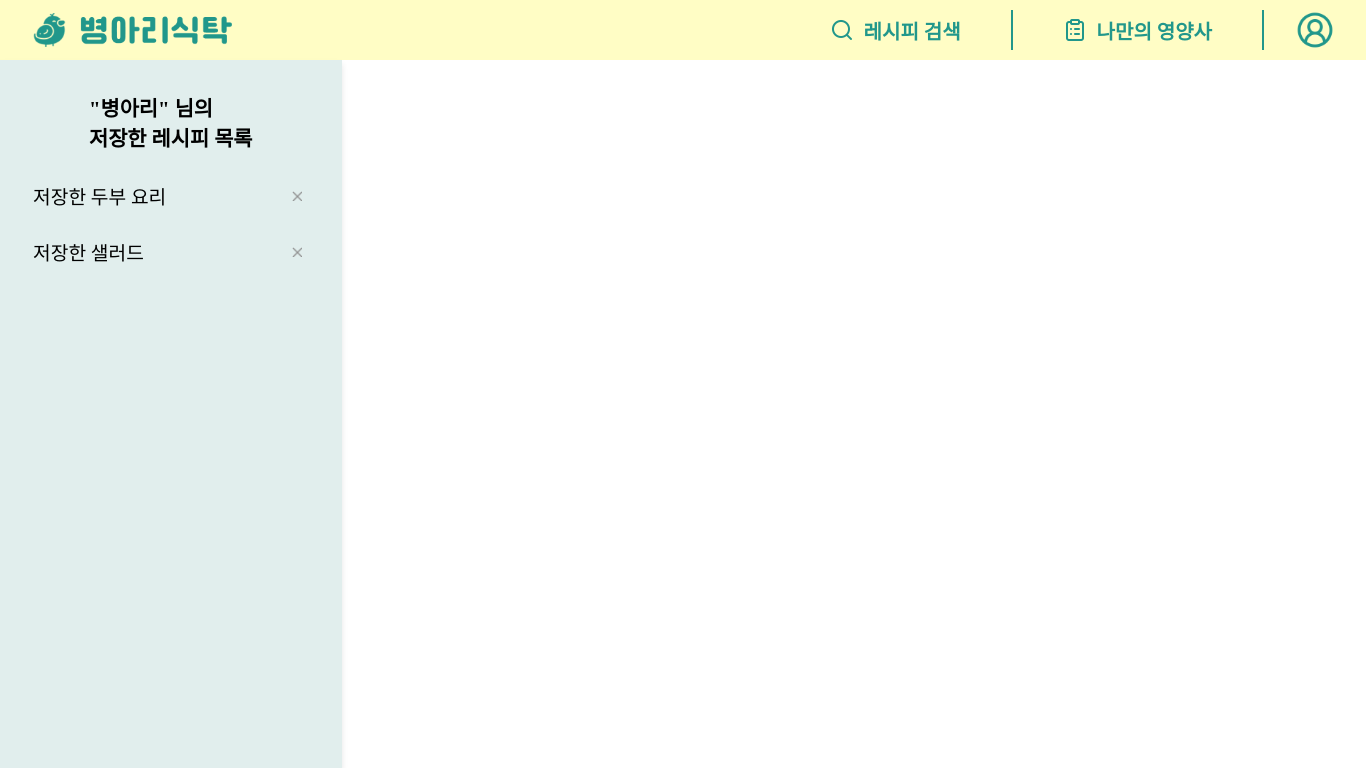
Scenario: 저장한 레시피 › 목록에서 레시피를 누르면 내용이 보인다
Click the text "저장한 두부 요리".
click(100, 196)  # box [33,182,166,210]
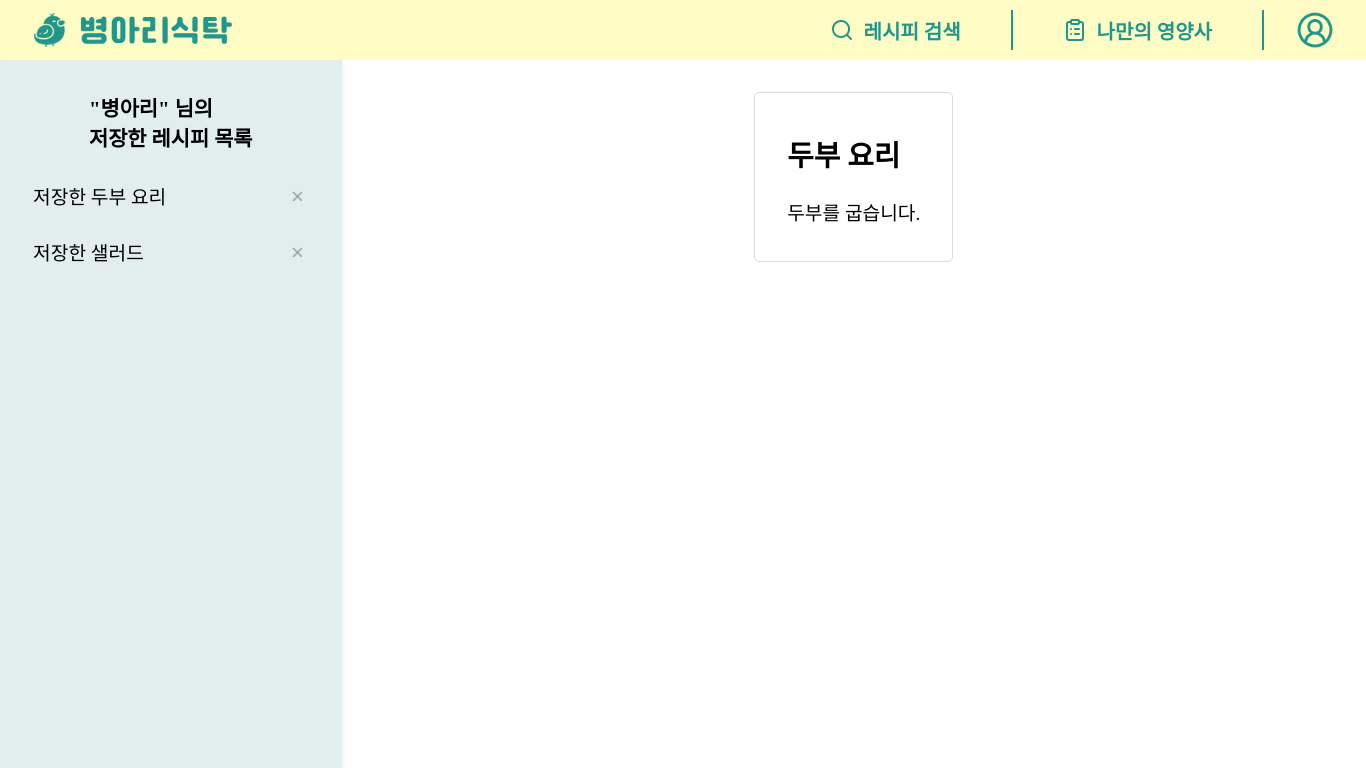
Expected: the text "두부를 굽습니다." is shown, [787,198,920,226]
